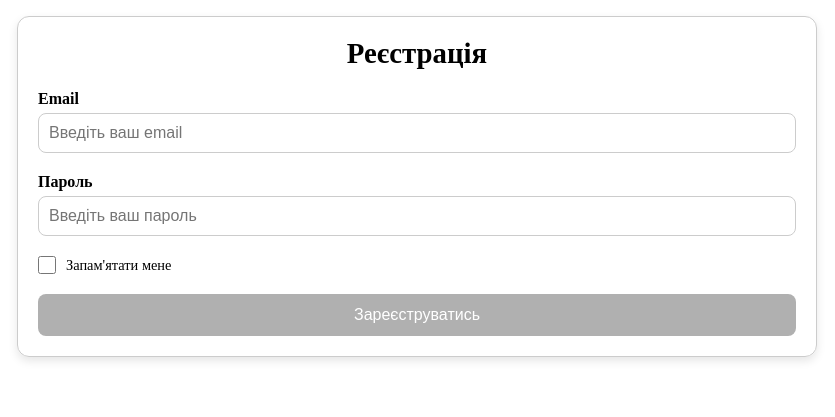
RegisterPage › відображає помилку при невдалій реєстрації
Type "test@example.com" into the field labelled "Email". click: (417, 133)
box: left=38, top=113, right=796, bottom=153
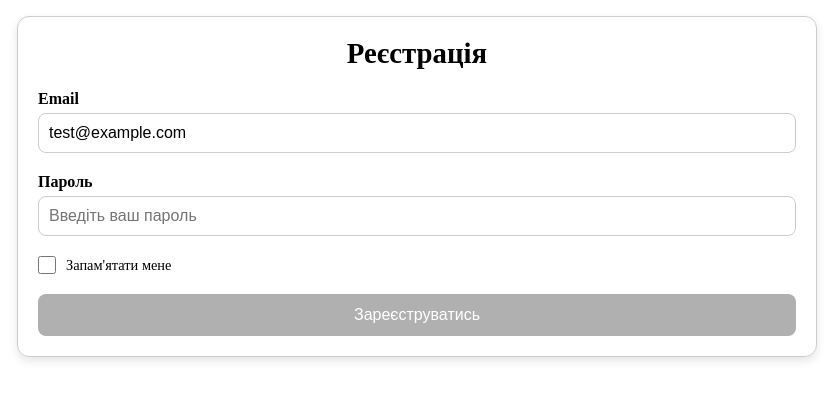
Type "password" into the password field labelled "Пароль". click: (417, 216)
box: left=38, top=196, right=796, bottom=236
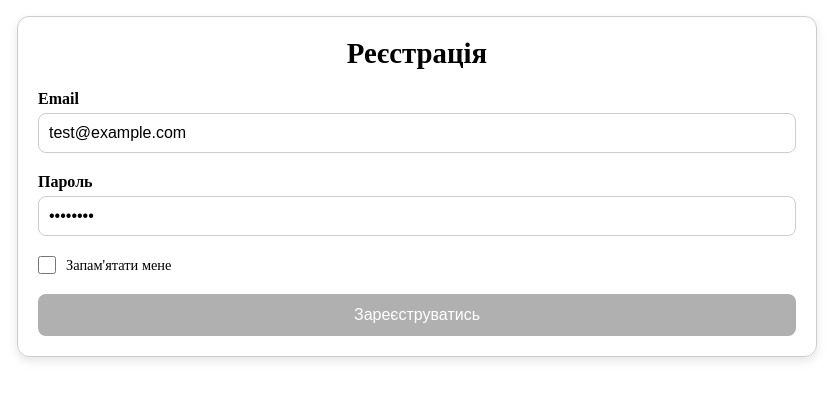
Click the button "Зареєструватись". click: (417, 315)
box: left=38, top=294, right=796, bottom=336
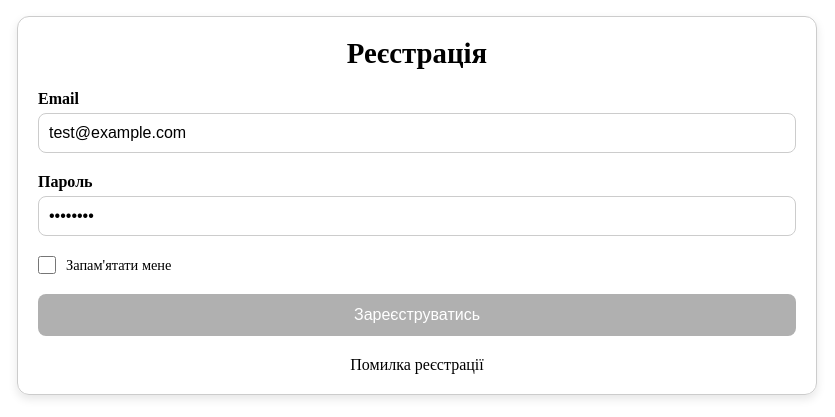
Expected: the text "Помилка реєстрації" is shown, left=350, top=356, right=484, bottom=373
